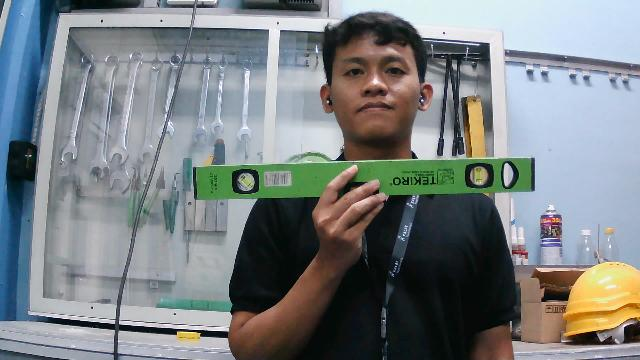water_pass: (189, 155, 538, 201)
